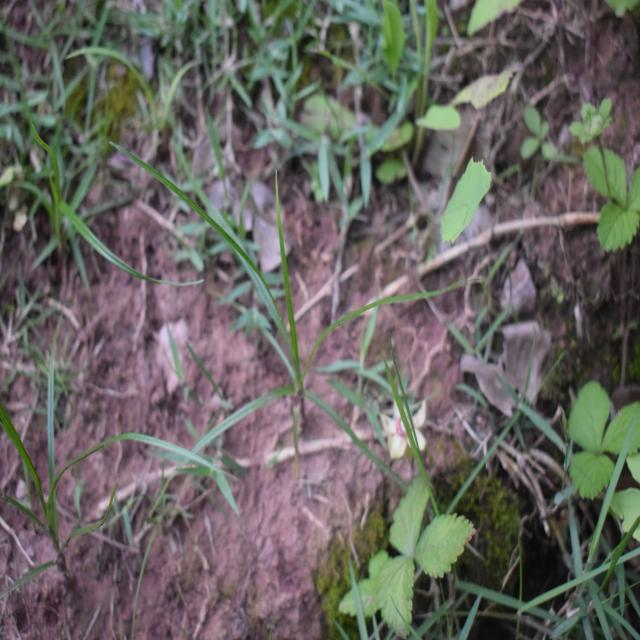sedge: (213, 212, 404, 488), (18, 86, 158, 290), (17, 386, 158, 565)
